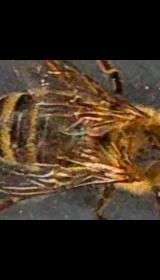varroa_mite: (75, 97, 99, 128)
